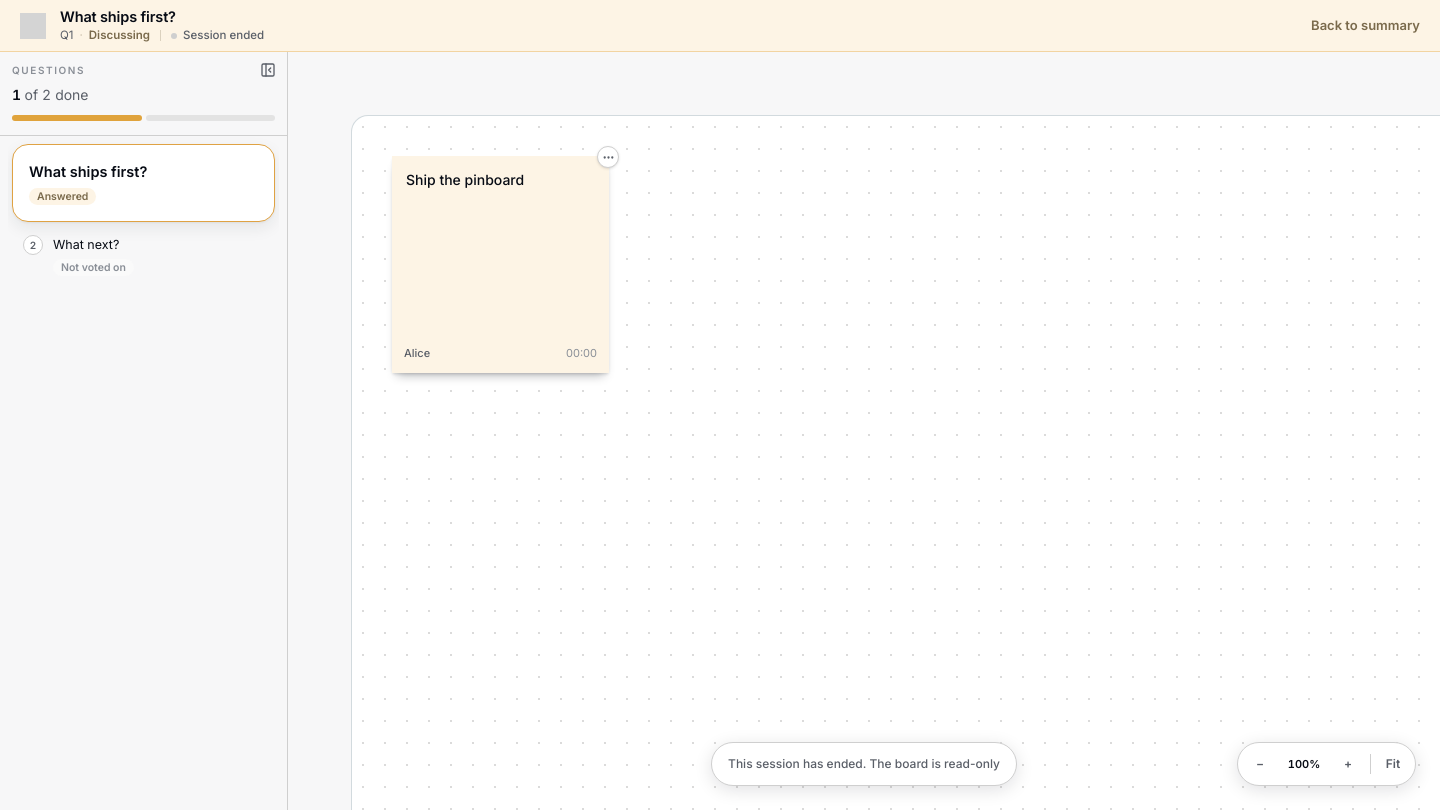
Scenario: SessionArchive › loads the next question when it is chosen, in agenda order
Expected: the text "Ship the pinboard" is shown, [406,171,524,188]
Click the button "What next?": [158, 245] box [53,236,264,253]
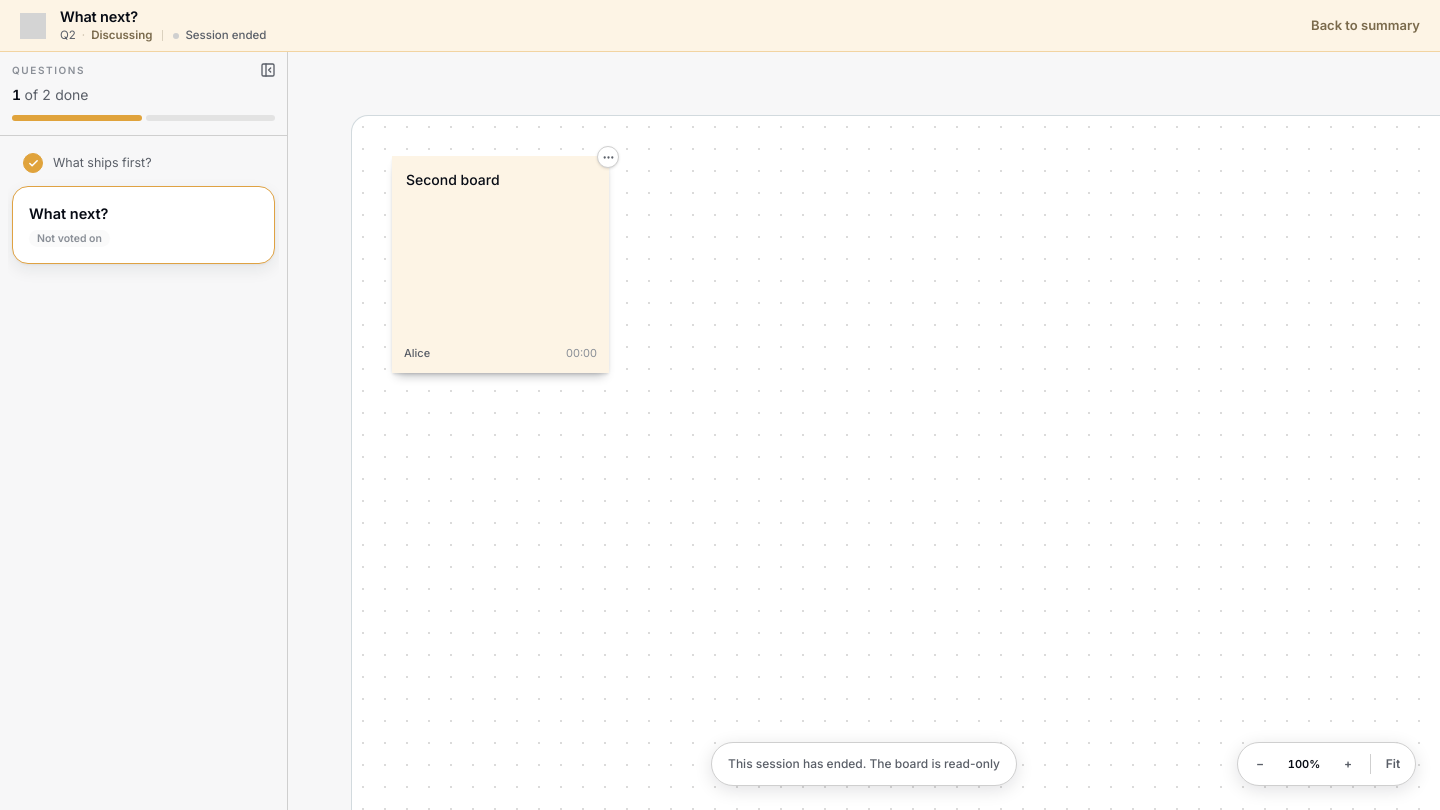
Expected: the text "Second board" is shown, [406,171,500,188]
Expected: the text "Ship the pinboard" is gone
